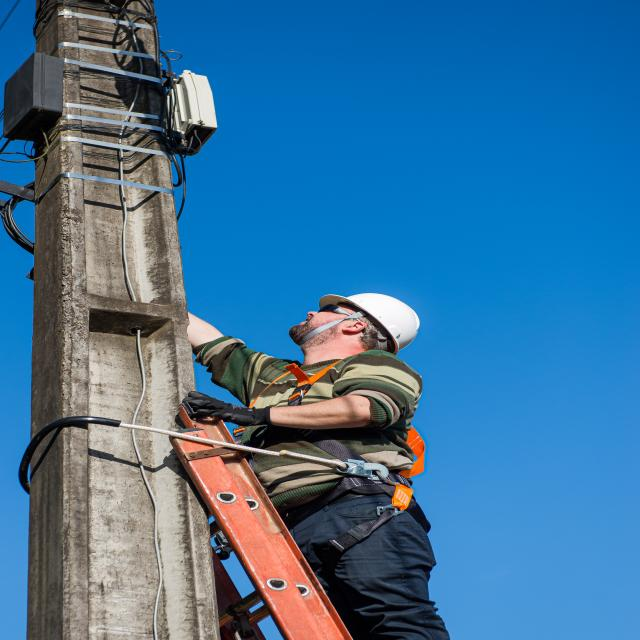capacete: (314, 290, 425, 358)
corda de vida: (232, 354, 435, 580)
luva: (184, 389, 278, 431)
